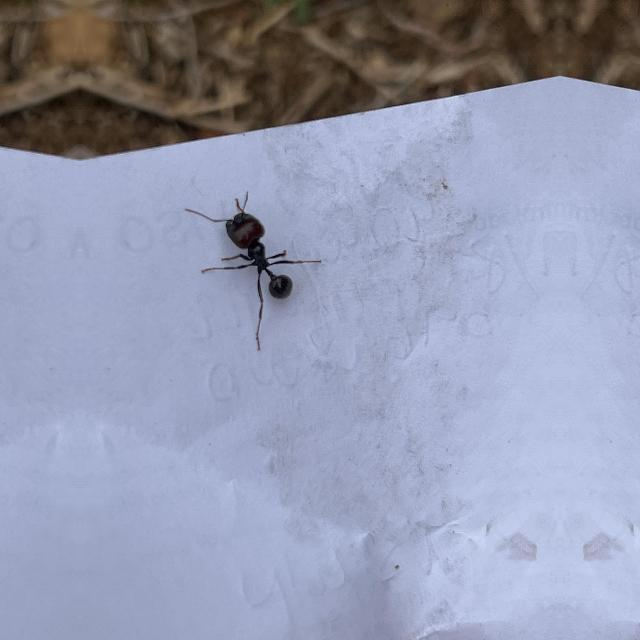Messor: (217, 208, 301, 308)
